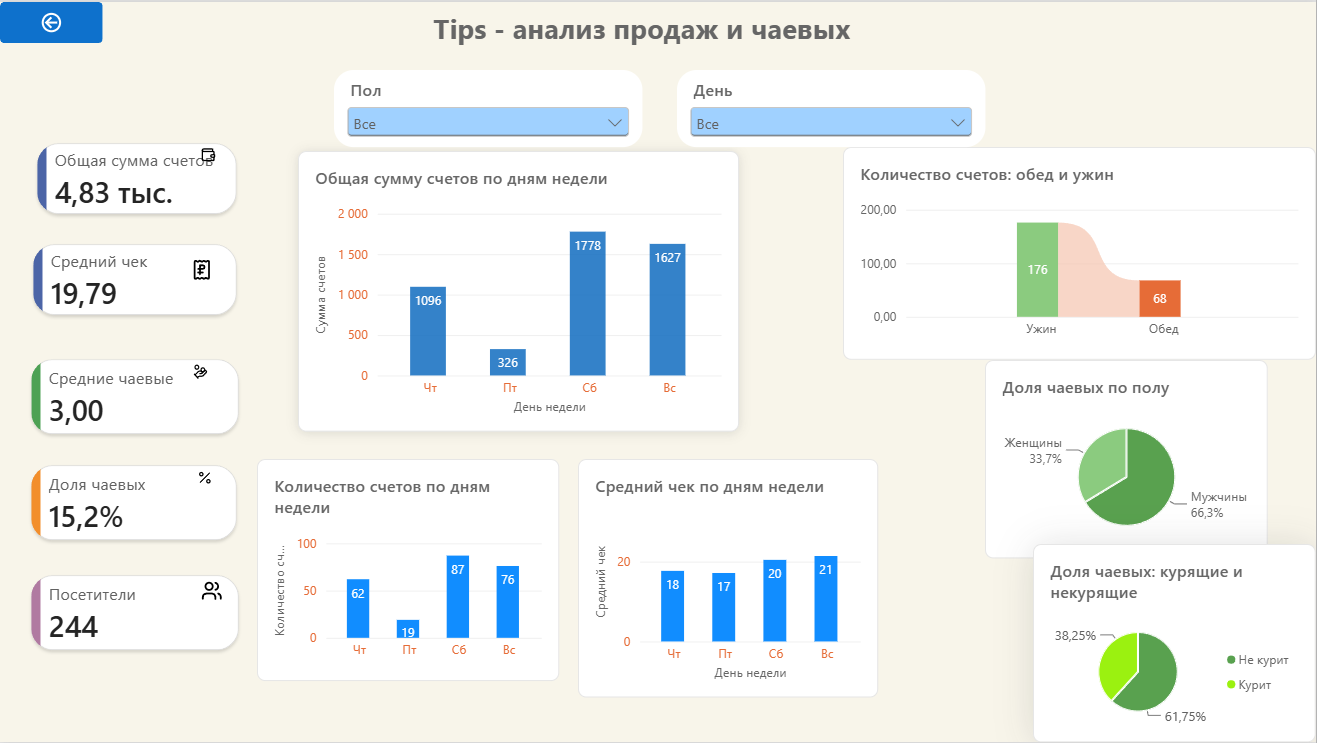

The page's visual inventory and layout, read from the dashboard file:
{"tool":"powerbi","page":{"name":"Страница 1","canvas":[1280,720],"ordinal":0},"visuals":[{"type":"cardVisual","fields":{"Data":["tips.Total Bill"]},"box":[31.1,132.3,204.3,79.8],"z":0,"group":"g1"},{"type":"cardVisual","fields":{"Data":["tips.Average Bill"]},"box":[27.2,230.1,208.1,79.8],"z":0},{"type":"cardVisual","fields":{"Data":["tips.Average Tip"]},"box":[25.3,342.4,212,83.6],"z":0,"group":"g2"},{"type":"cardVisual","fields":{"Data":["tips.Tip %"]},"box":[25.3,445.5,210.1,83.6],"z":0,"group":"g3"},{"type":"clusteredColumnChart","title":"Общая сумму счетов по дням недели","fields":{"Category":["tips.День"],"Y":["tips.Total Bill"]},"box":[289.8,144.9,428.9,273.3],"z":1000},{"type":"actionButton","box":[0,0,100,40],"z":8000},{"type":"clusteredColumnChart","title":"Средний чек по дням недели","fields":{"Category":["tips.День"],"Y":["tips.Average Bill"]},"box":[562.2,444.5,291.8,232.5],"z":9000},{"type":"pieChart","title":"Доля чаевых по полу","fields":{"Category":["tips.Пол"],"Y":["Sum(tips.tip)"]},"box":[958.1,348.2,275.3,192.6],"z":10000},{"type":"pieChart","title":"Доля чаевых: курящие и некурящие","fields":{"Category":["tips.Курение"],"Y":["Sum(tips.tip)"]},"box":[1004.7,527.2,275.3,192.6],"z":11000},{"type":"clusteredColumnChart","title":"Количество счетов по дням недели","fields":{"Category":["tips.День"],"Y":["tips.Bill Count"]},"box":[250,444.5,293.7,215.9],"z":12000},{"type":"textbox","box":[411.4,6.8,426,47.7],"z":14000},{"type":"slicer","fields":{"Values":["tips.Пол"]},"box":[324.9,66.1,299.6,74.9],"z":15002},{"type":"image","box":[178.7,141,46.8,14.7],"z":15004,"group":"g1"},{"type":"group","id":"g1","title":"Группа 1","box":[31.1,132.3,204.3,79.8],"z":15005},{"type":"image","box":[184.8,250,22.9,20.8],"z":15006},{"type":"image","box":[179.4,352.2,31.8,14.8],"z":15008,"group":"g2"},{"type":"group","id":"g2","title":"Группа 3","box":[25.3,342.4,212,83.6],"z":15009},{"type":"image","box":[186.3,455.3,25,14.8],"z":15010,"group":"g3"},{"type":"cardVisual","fields":{"Data":["tips.Bill Count"]},"box":[25.3,552.5,212,83.6],"z":15011,"group":"g4"},{"type":"group","id":"g3","title":"Группа 4","box":[25.3,445.5,210.1,83.6],"z":15012},{"type":"image","box":[195.3,560.9,21.5,23.2],"z":15013,"group":"g4"},{"type":"group","id":"g4","title":"Группа 5","box":[25.3,552.5,212,83.6],"z":15014},{"type":"ribbonChart","title":"Количество счетов: обед и ужин","fields":{"Category":["tips.Время"],"Y":["CountNonNull(tips.total_bill)"]},"box":[819.9,141,460.1,207.2],"z":15015},{"type":"slicer","fields":{"Values":["tips.День"]},"box":[658.5,66.1,299.6,74.9],"z":15016}]}

Visuals, with their boxes in screenshot pixels (x1, y1, x2, y2), scaled from the page's 1280x720 canvas onto the 1317x743 screenshot:
cardVisual - tips.Total Bill: 32,137,242,219
cardVisual - tips.Average Bill: 28,237,242,320
cardVisual - tips.Average Tip: 26,353,244,440
cardVisual - tips.Tip %: 26,460,242,546
"Общая сумму счетов по дням недели" clusteredColumnChart: 298,150,739,432
actionButton: 0,0,103,41
"Средний чек по дням недели" clusteredColumnChart: 578,459,879,699
"Доля чаевых по полу" pieChart: 986,359,1269,558
"Доля чаевых: курящие и некурящие" pieChart: 1034,544,1316,742
"Количество счетов по дням недели" clusteredColumnChart: 257,459,559,681
textbox: 423,7,862,56
slicer - tips.Пол: 334,68,643,146
image: 184,146,232,161
"Группа 1" group: 32,137,242,219
image: 190,258,214,279
image: 185,363,217,379
"Группа 3" group: 26,353,244,440
image: 192,470,217,485
cardVisual - tips.Bill Count: 26,570,244,656
"Группа 4" group: 26,460,242,546
image: 201,579,223,603
"Группа 5" group: 26,570,244,656
"Количество счетов: обед и ужин" ribbonChart: 844,146,1316,359
slicer - tips.День: 678,68,986,146
